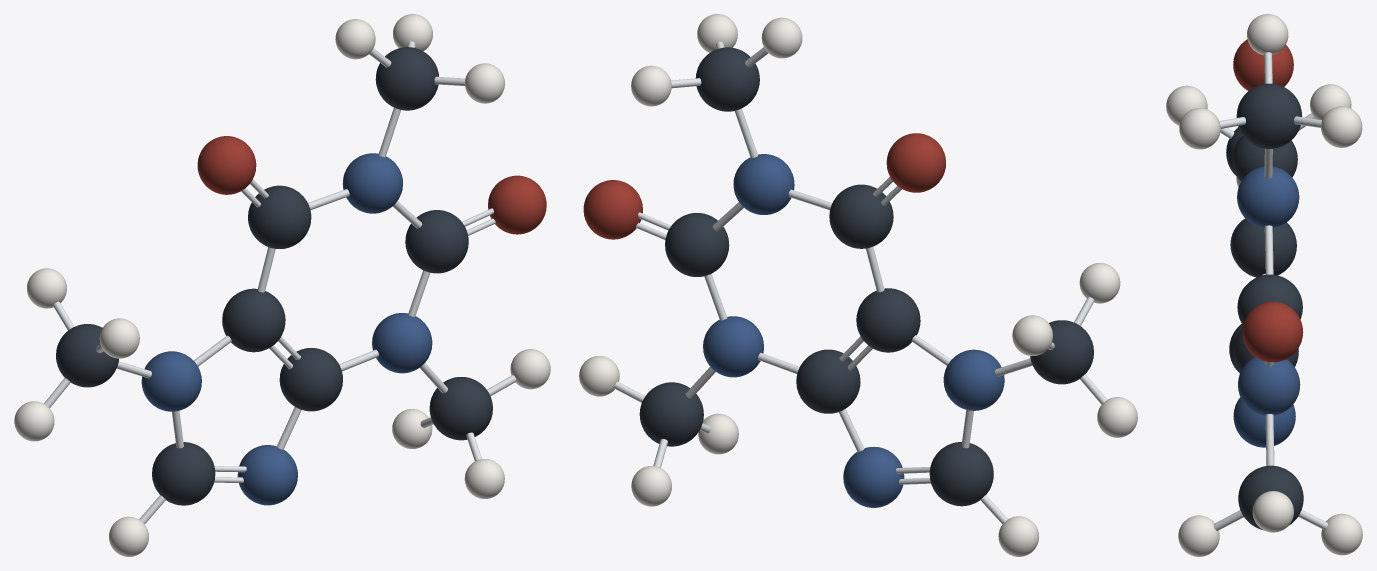
The model's file is caffeine.glb.
The picture shows the model from 3 angles, left to right: view 1: azimuth 30°, elevation 25°; view 2: azimuth 150°, elevation 25°; view 3: azimuth 270°, elevation 25°; orthographic projection. The views are drawn at different scales.
Parts seen in each view (by area): view 1: Caffeine, Caffeine_C1, Caffeine_C5, Caffeine_C4, Caffeine_C3, Caffeine_C2, Caffeine_C8, Caffeine_C6, Caffeine_N3, Caffeine_N1, Caffeine_N2, Caffeine_N4 (+13 smaller); view 2: Caffeine, Caffeine_C1, Caffeine_C5, Caffeine_C4, Caffeine_C2, Caffeine_C3, Caffeine_C8, Caffeine_C6, Caffeine_N1, Caffeine_N3, Caffeine_N2, Caffeine_N4 (+13 smaller); view 3: Caffeine_C8, Caffeine_N3, Caffeine_O2, Caffeine_N1, Caffeine, Caffeine_C1, Caffeine_C6, Caffeine_O1, Caffeine_C4, Caffeine_N4, Caffeine_C3, Caffeine_H3 (+9 smaller).
Boxes of the visible parts, x1=… form: Caffeine: x1=44, y1=41, x2=516, y2=524; Caffeine_C1: x1=222, y1=288, x2=285, y2=352; Caffeine_C5: x1=152, y1=442, x2=215, y2=505; Caffeine_C4: x1=405, y1=210, x2=468, y2=273; Caffeine_C3: x1=248, y1=185, x2=311, y2=248; Caffeine_C2: x1=279, y1=348, x2=342, y2=411; Caffeine_C8: x1=375, y1=47, x2=438, y2=110; Caffeine_C6: x1=429, y1=377, x2=492, y2=440; Caffeine_N3: x1=342, y1=153, x2=402, y2=213; Caffeine_N1: x1=372, y1=313, x2=432, y2=373; Caffeine_N2: x1=141, y1=351, x2=201, y2=411; Caffeine_N4: x1=237, y1=445, x2=297, y2=505; Caffeine: x1=614, y1=41, x2=1107, y2=524; Caffeine_C1: x1=856, y1=288, x2=920, y2=352; Caffeine_C5: x1=929, y1=442, x2=993, y2=506; Caffeine_C4: x1=665, y1=213, x2=729, y2=276; Caffeine_C2: x1=796, y1=349, x2=860, y2=413; Caffeine_C3: x1=829, y1=184, x2=893, y2=248; Caffeine_C8: x1=696, y1=47, x2=759, y2=111; Caffeine_C6: x1=639, y1=382, x2=703, y2=446; Caffeine_N1: x1=703, y1=316, x2=763, y2=377; Caffeine_N3: x1=733, y1=154, x2=794, y2=214; Caffeine_N2: x1=943, y1=349, x2=1004, y2=410; Caffeine_N4: x1=843, y1=447, x2=904, y2=507; Caffeine_C8: x1=1236, y1=83, x2=1302, y2=148; Caffeine_N3: x1=1237, y1=166, x2=1299, y2=228; Caffeine_O2: x1=1242, y1=301, x2=1303, y2=362; Caffeine_N1: x1=1238, y1=357, x2=1300, y2=415; Caffeine: x1=1213, y1=52, x2=1327, y2=530; Caffeine_C1: x1=1231, y1=219, x2=1296, y2=277; Caffeine_C6: x1=1238, y1=465, x2=1303, y2=530; Caffeine_O1: x1=1233, y1=39, x2=1293, y2=90; Caffeine_C4: x1=1237, y1=274, x2=1302, y2=325; Caffeine_N4: x1=1233, y1=397, x2=1295, y2=447; Caffeine_C3: x1=1232, y1=136, x2=1297, y2=181; Caffeine_H3: x1=1252, y1=491, x2=1293, y2=532.
Size of the model in its own units: 0.1859 by 0.1567 by 0.0569.
